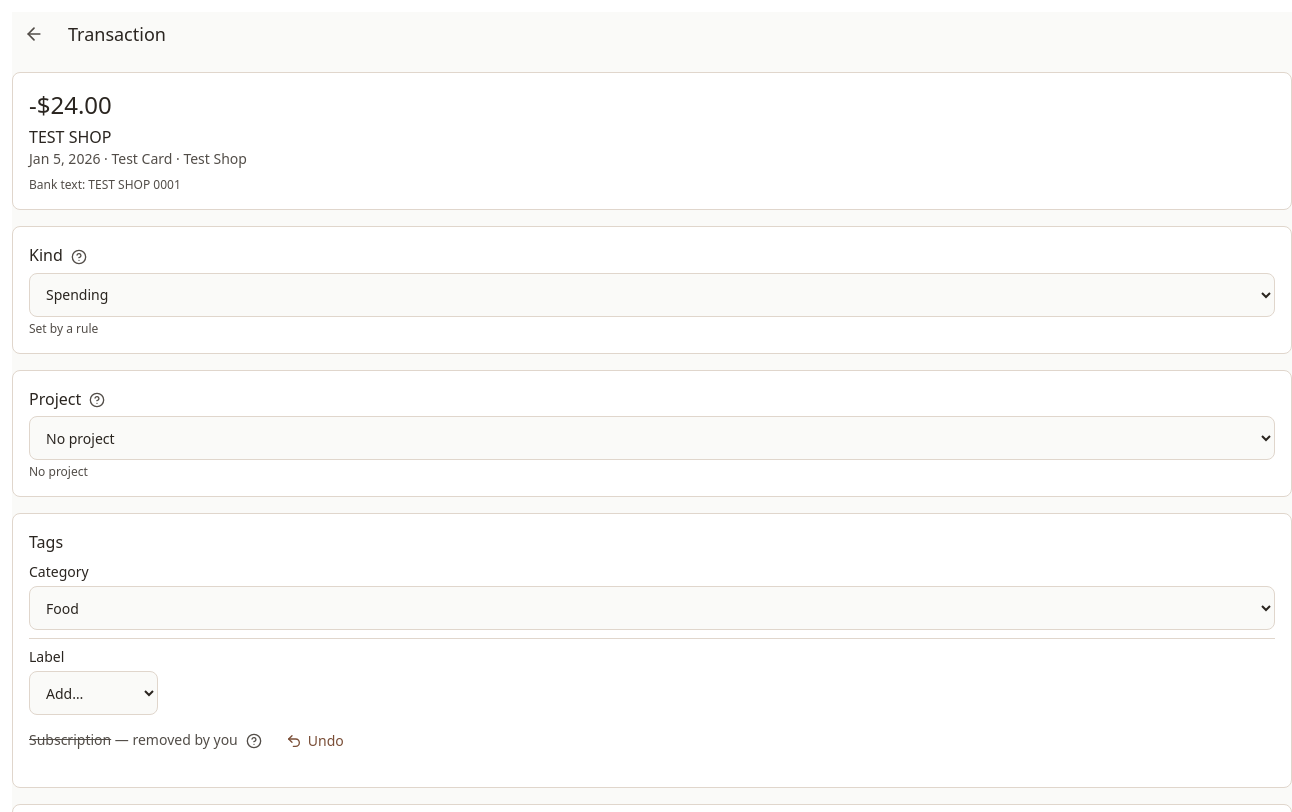
Scenario: shows a refusal in plain words
Select "Fee" in the dropdown labelled "Kind": [652, 295] box [29,273,1275,317]
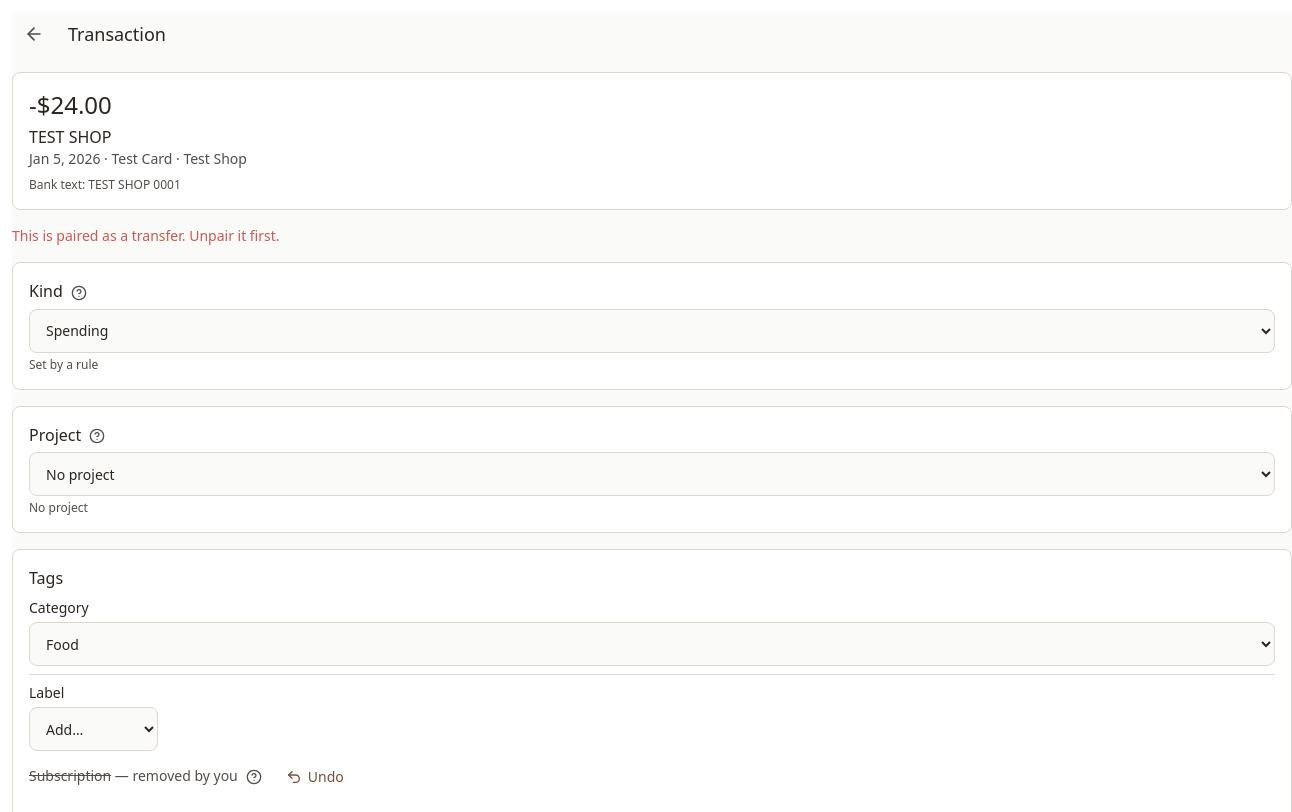
Expected: the message shows "Unpair it first.", [12,226,280,245]
